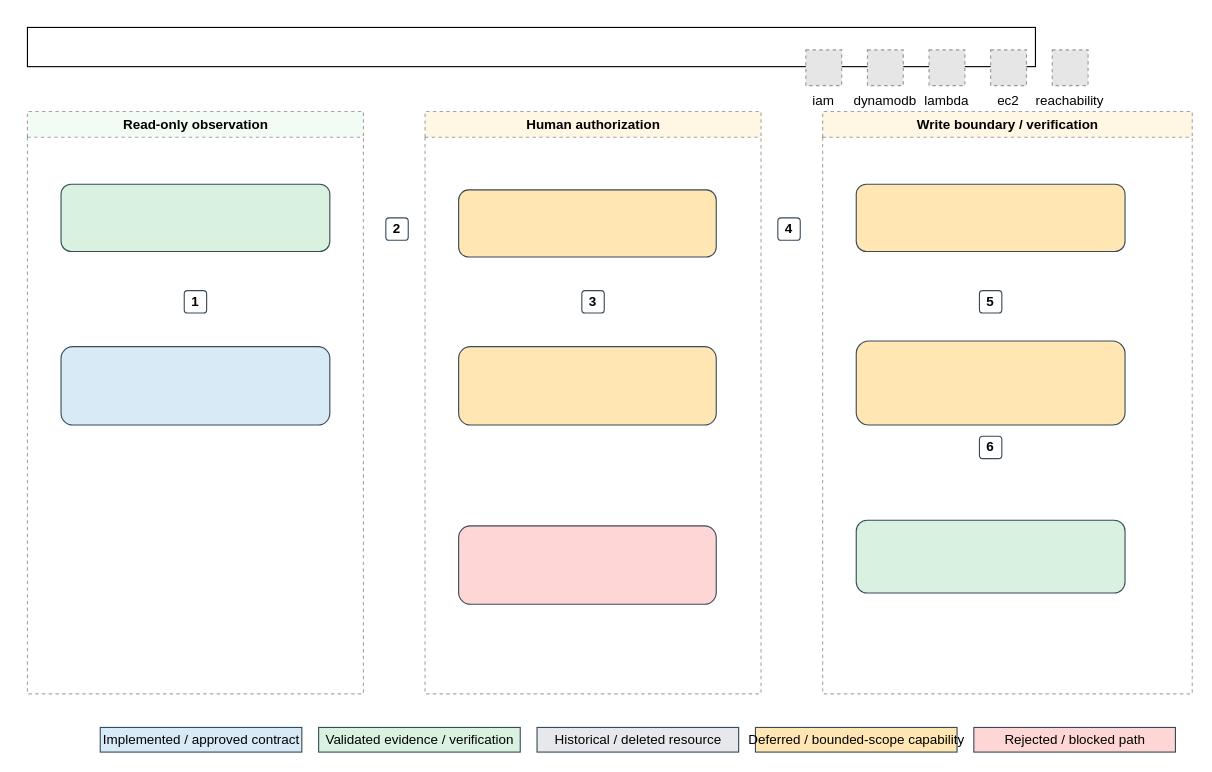
Image size: 1212x772. Some labels were removed from this diagram. Grey dashed boxes stand in for pictures. Each missing label, with the centre of its shape:
3 fixed remediation tools separate IAM: [990,382]
Atomic approval consumption: [990,217]
Deterministic evidence: [195,217]
Diagnosis + canonical proposal: [195,385]
Human approval: [587,223]
Observe → Diagnose → Remediate human-approval flow: [530,46]
Policy + interceptor validation: [587,385]
Post-change READ verification: [990,556]
Rejected / expired / replayed approval → zero writes: [587,564]
